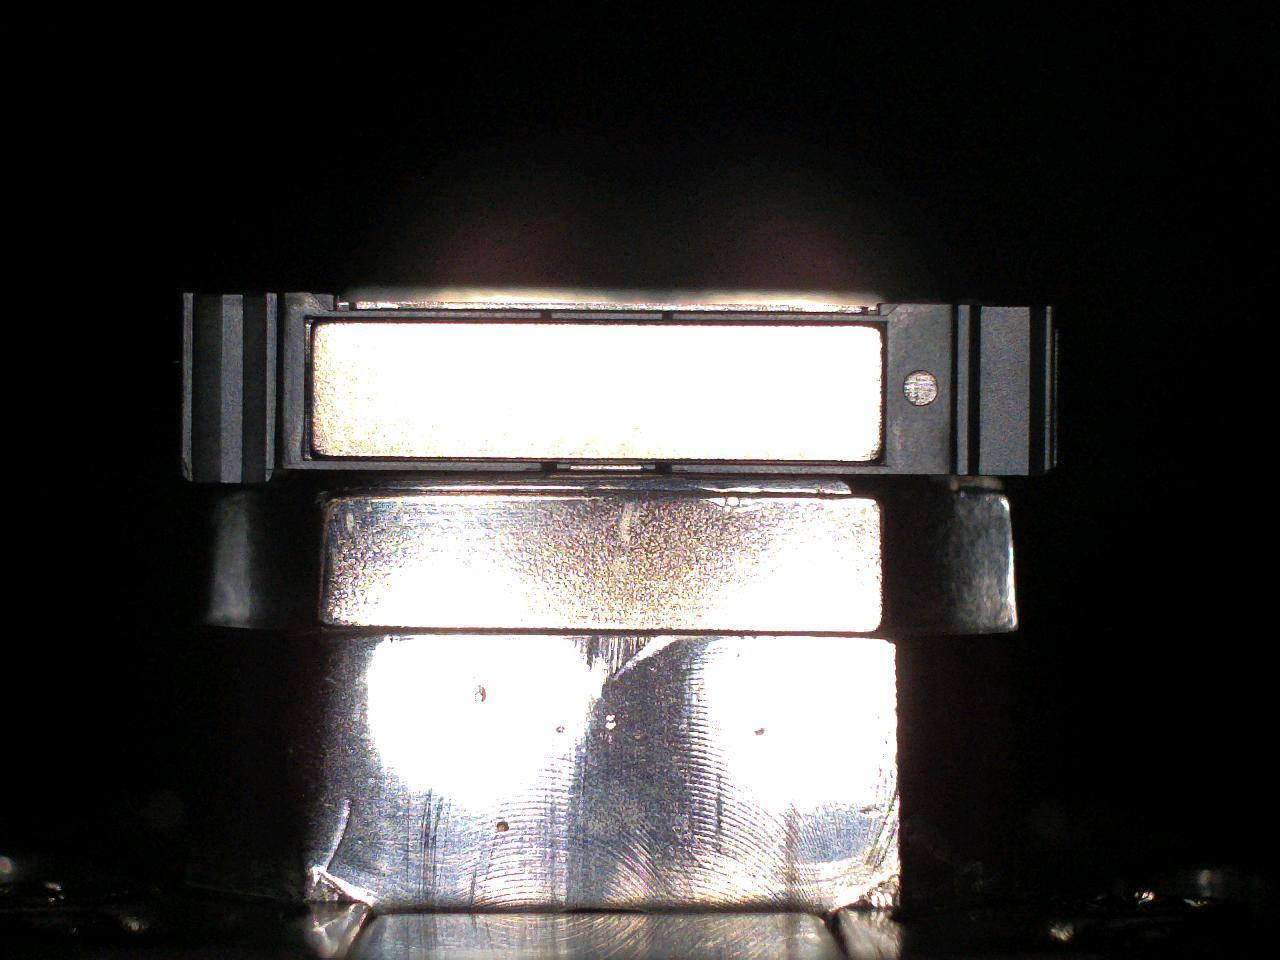frame: (183, 293, 1054, 483)
gap: (313, 317, 543, 325), (312, 456, 542, 463), (671, 458, 880, 465), (672, 320, 881, 326), (552, 319, 662, 325), (555, 458, 657, 463)
magnetic: (312, 324, 882, 460)
